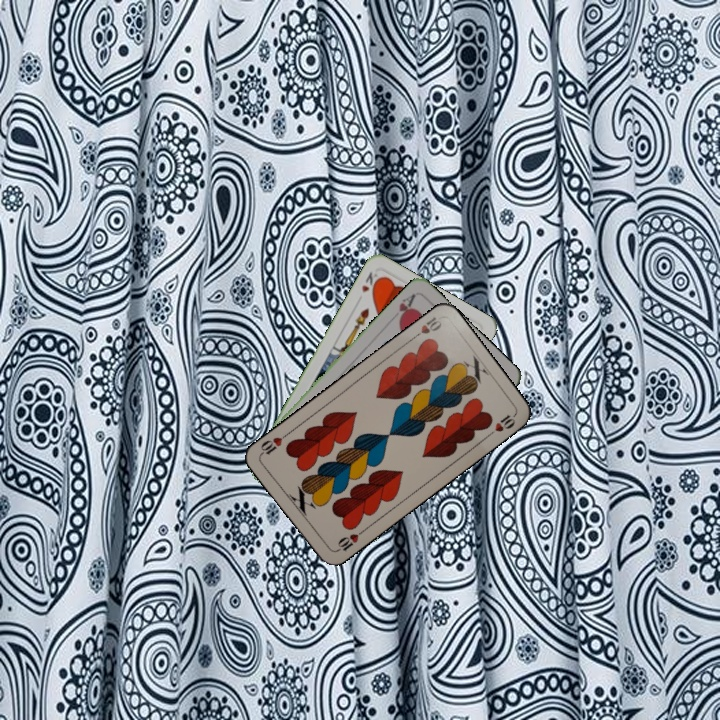H10: (408, 312, 444, 342), (332, 526, 367, 554)
HA: (394, 289, 418, 326)
HK: (358, 267, 384, 296)
